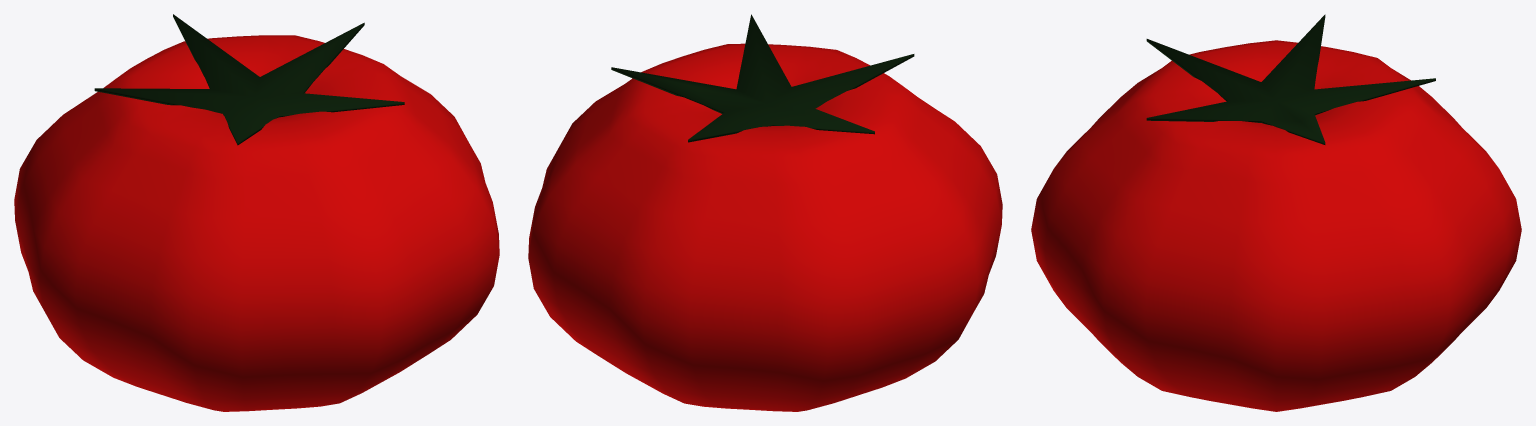
File: Tomate.obj
The picture shows the model from 3 angles, left to right: view 1: azimuth 30°, elevation 25°; view 2: azimuth 150°, elevation 25°; view 3: azimuth 270°, elevation 25°; orthographic projection. The views are drawn at different scales.
Visible parts, largest first — view 1: Sphere; view 2: Sphere; view 3: Sphere.
Boxes of the visible parts, box(x1,y1,x2,y2) form: Sphere: box(14, 14, 499, 411); Sphere: box(528, 14, 1002, 411); Sphere: box(1031, 14, 1521, 411).
Size of the model in its own units: 3.45 by 2.2 by 3.45.
